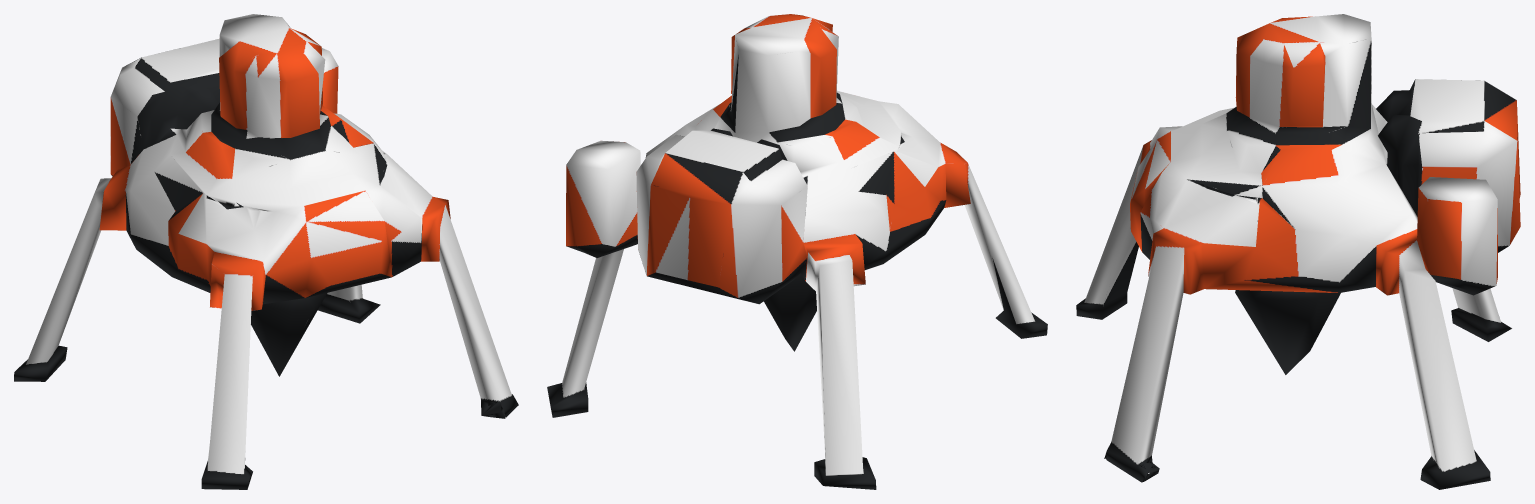
The model's file is drill.glb.
3 views of the same model, side by side, from view 1: azimuth 30°, elevation 25°; view 2: azimuth 150°, elevation 25°; view 3: azimuth 270°, elevation 25° (orthographic). The views are drawn at different scales.
Visible parts, largest first — view 1: BakeLow; view 2: BakeLow; view 3: BakeLow.
Part boxes in pixels (x1,y1,x2,y2): BakeLow: (14, 14, 518, 489); BakeLow: (547, 14, 1047, 489); BakeLow: (1076, 14, 1520, 489).
Bounding box in the file's own units: 1.52 × 1.5 × 1.6.
1 material, 1 textured.
